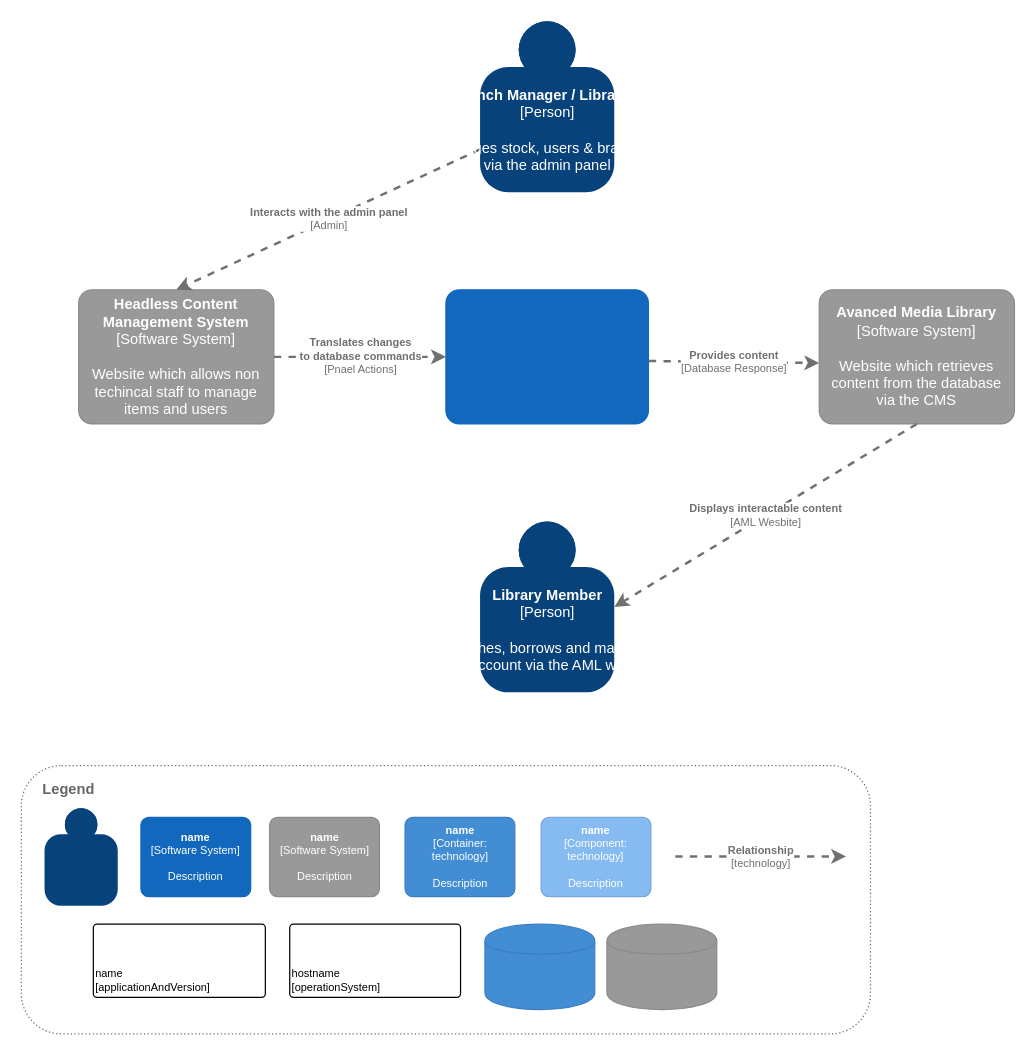
Some shapes in this 1036 by 1055 pixel diagram are drawn without their labels. Here are the shapes that lost their labels. From the top down, the centre of each, then its label:
point (546, 356): Database [Software System] User, item & branch data Recieves commands from CMS
point (80, 856): name [Person] Description
point (539, 966): Database [Container: Technology] Description
point (661, 966): Database [Container: Technology] External
